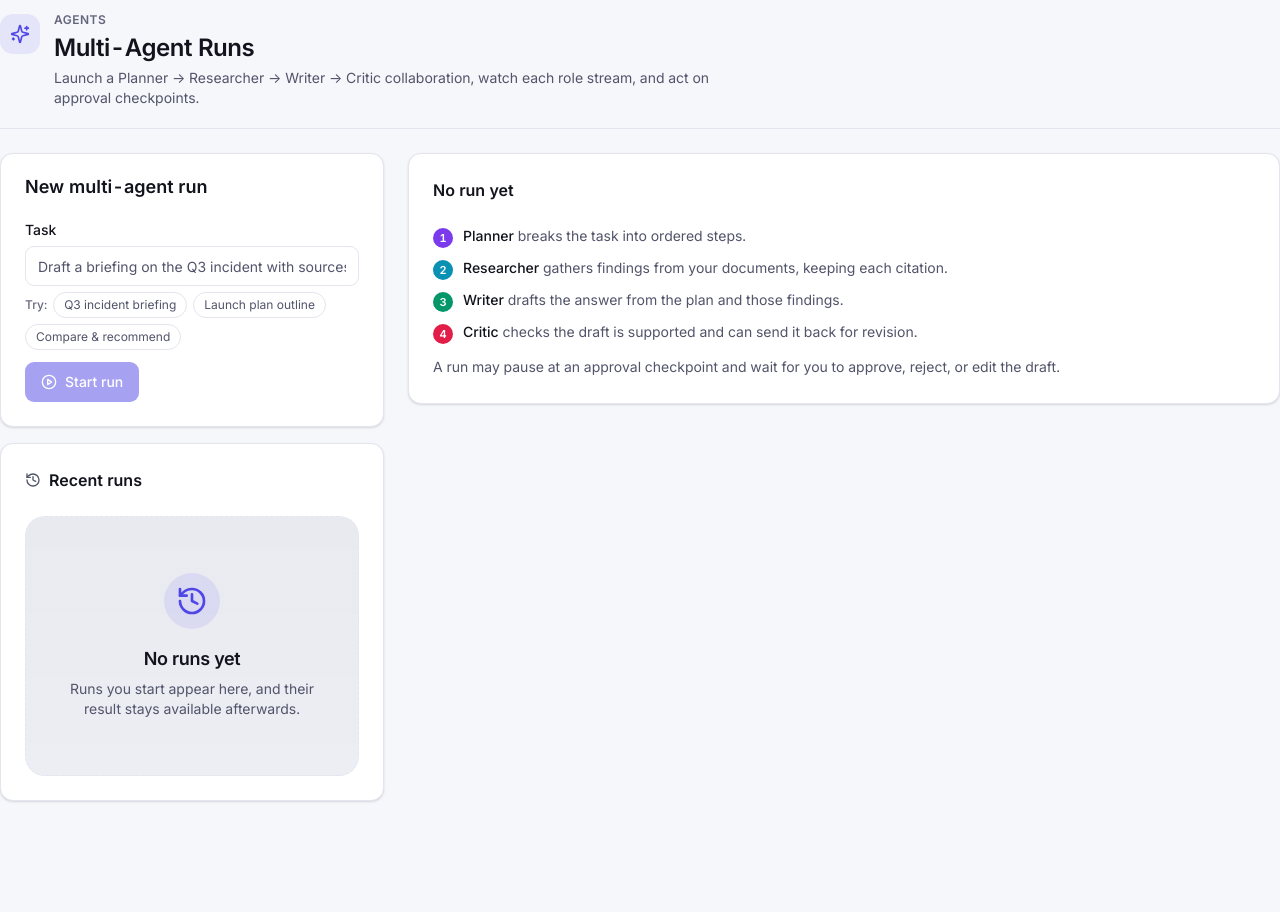
it: MultiAgentRunView (MSW SSE) › shows run_id / conversation_id / status on start (10.1)
In the field with test id "multi-task": (192, 266) top-left (25, 246), bottom-right (359, 286), type "draft a brief"
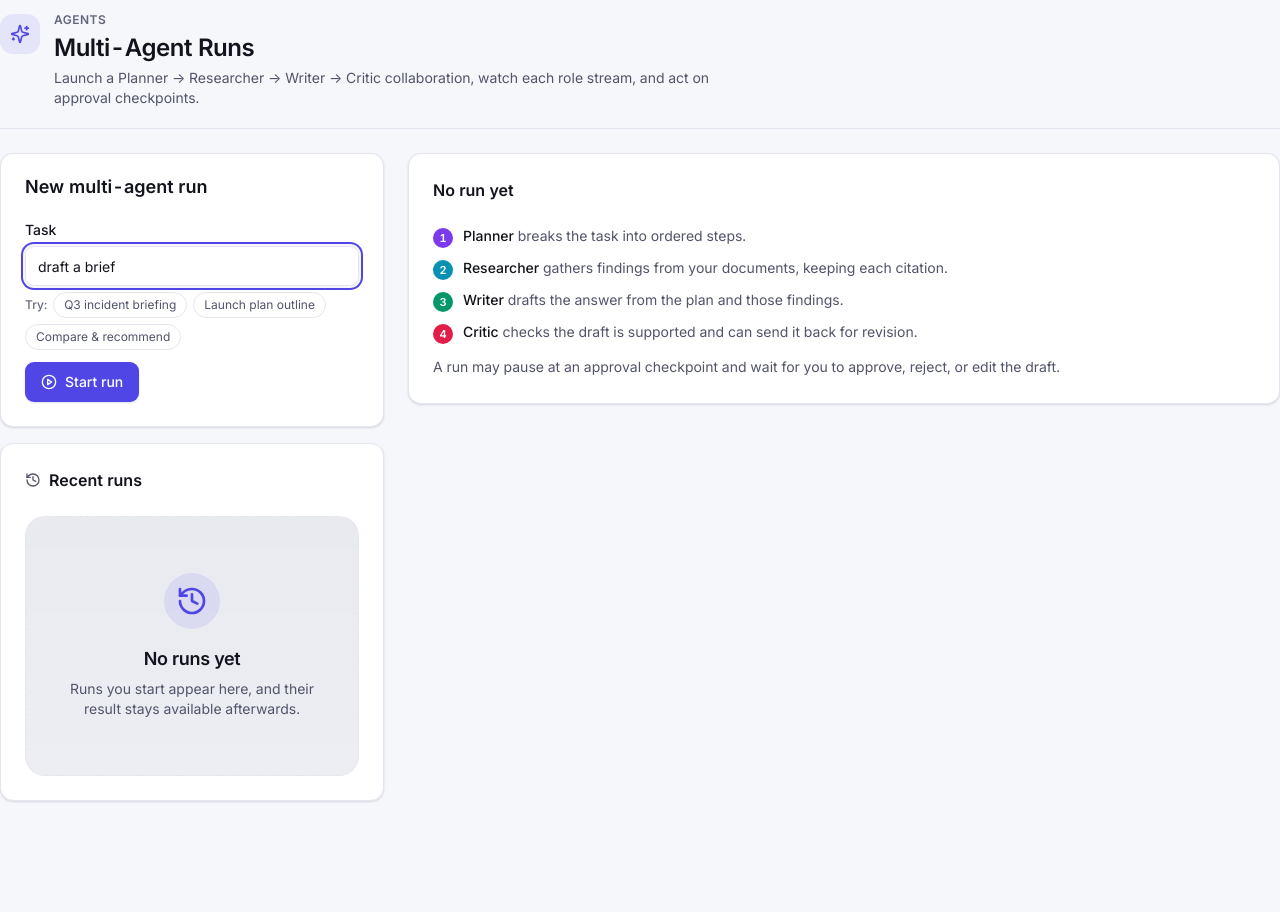
Click the button with test id "multi-start": (82, 382) top-left (25, 362), bottom-right (139, 402)
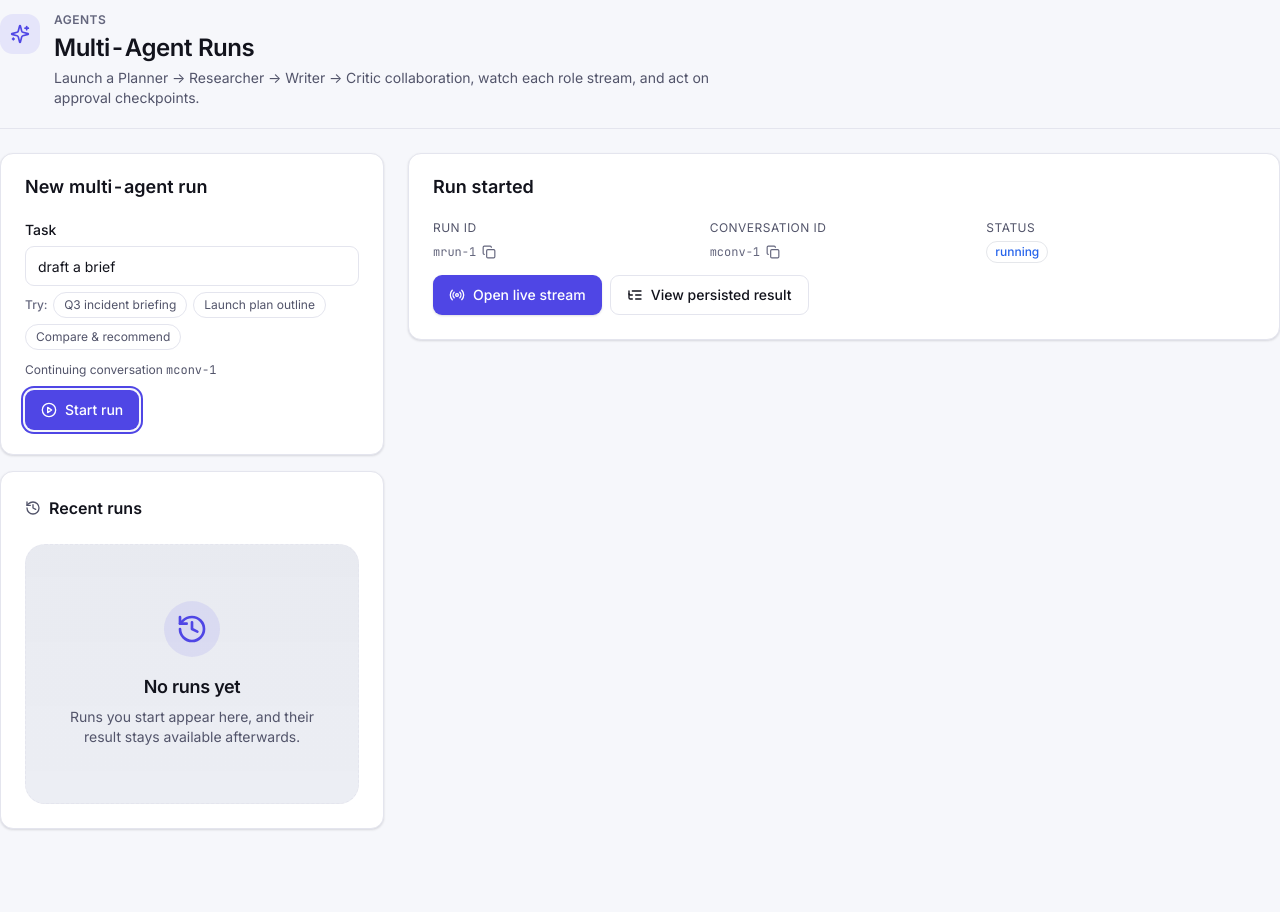
Check: the element with test id "multi-run-summary" is shown, box top-left (408, 153), bottom-right (1279, 340)
Check: the element with test id "multi-run-id" reads "mrun-1", box top-left (433, 244), bottom-right (476, 260)
Check: the element with test id "multi-conversation-id" reads "mconv-1", box top-left (710, 244), bottom-right (760, 260)
